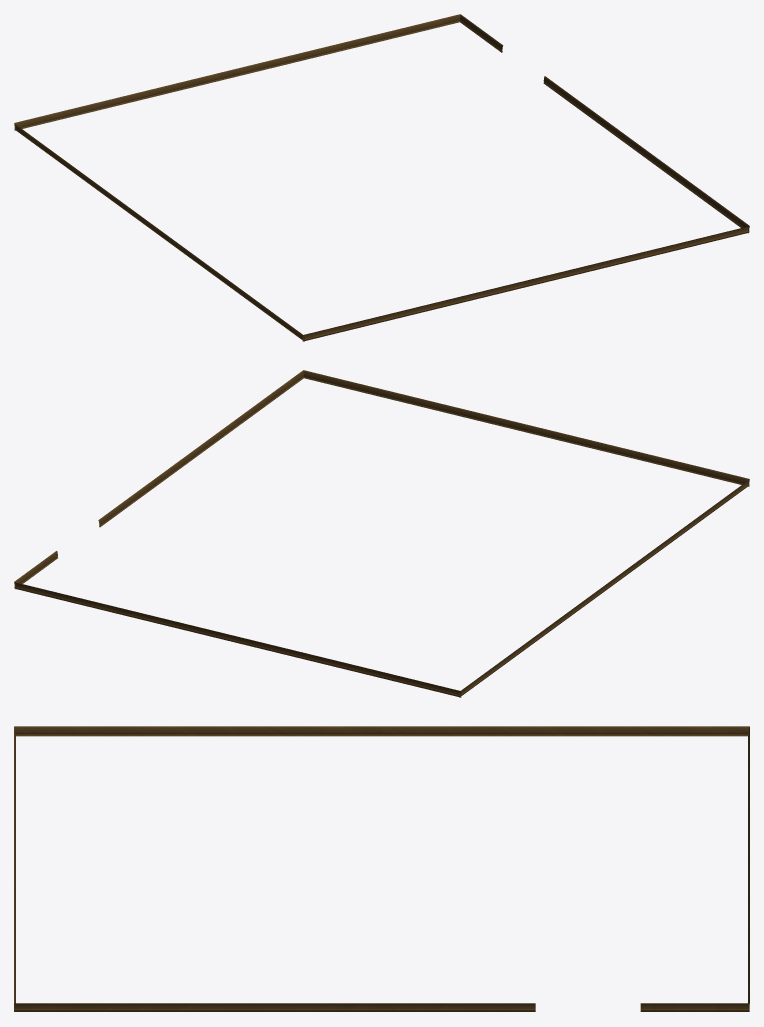
The model's file is Room Floor Trim.fbx.
3 views of the same model, one above another, from view 1: azimuth 30°, elevation 25°; view 2: azimuth 150°, elevation 25°; view 3: azimuth 270°, elevation 25° (orthographic). The views are drawn at different scales.
Visible parts, largest first — view 1: Footboard.001, Footboard.002, Footboard, Footboard.003; view 2: Footboard.002, Footboard.001, Footboard, Footboard.003; view 3: Footboard, Footboard.003, Footboard.004, Footboard.001, Footboard.002.
Boxes of the visible parts, bbox=[...] form: Footboard.001: bbox=[14, 14, 460, 130]; Footboard.002: bbox=[302, 226, 749, 341]; Footboard: bbox=[14, 123, 304, 341]; Footboard.003: bbox=[543, 76, 749, 233]; Footboard.002: bbox=[303, 370, 749, 486]; Footboard.001: bbox=[14, 582, 461, 697]; Footboard: bbox=[459, 479, 749, 697]; Footboard.003: bbox=[98, 370, 303, 527]; Footboard: bbox=[14, 726, 749, 736]; Footboard.003: bbox=[14, 1003, 535, 1011]; Footboard.004: bbox=[640, 1003, 749, 1011]; Footboard.001: bbox=[748, 727, 749, 1011]; Footboard.002: bbox=[14, 727, 15, 1011].
Size of the model in its own units: 18.82 by 0.2941 by 21.13.
1 material, 1 textured.
